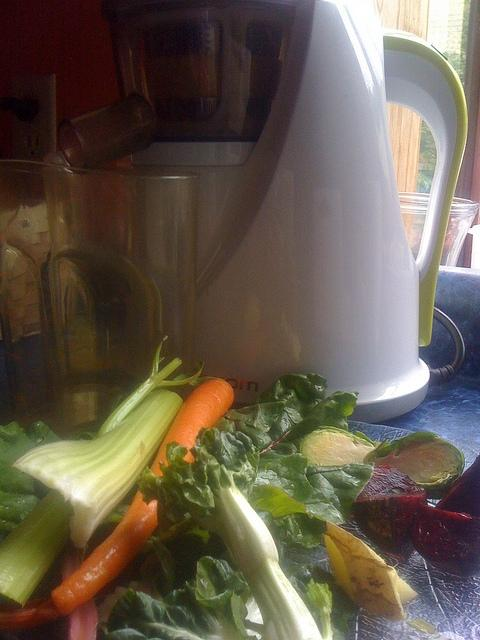carrot: (52, 379, 234, 616)
celery: (13, 336, 224, 550), (136, 418, 324, 640), (0, 492, 74, 610)
